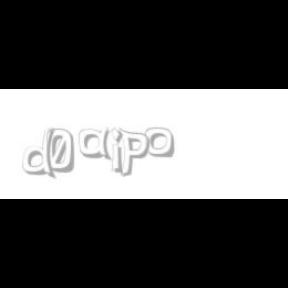0: (46, 128, 78, 174)
P: (118, 128, 150, 178)
a: (79, 128, 116, 160)
d: (22, 128, 60, 180)
i: (111, 128, 127, 176)
o: (146, 128, 174, 158)
